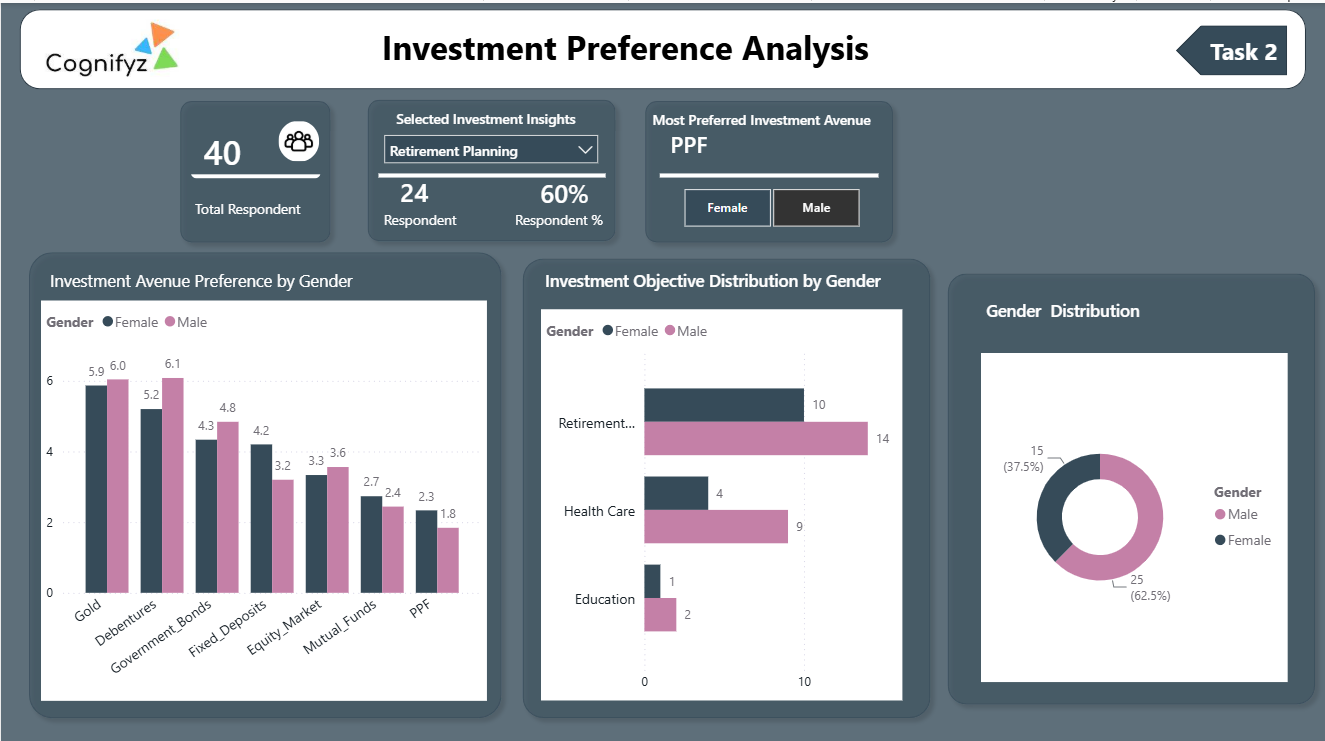

This screenshot's page, from the dashboard's own definition file:
{"tool":"powerbi","page":{"name":" Task 2","canvas":[1280,720],"ordinal":1},"visuals":[{"type":"shape","box":[905.3,252,372.4,433.9],"z":0},{"type":"shape","box":[494,238.2,411.3,461.4],"z":1000},{"type":"shape","box":[17.6,232,474,467.7],"z":2000},{"type":"shape","box":[345,84.5,257,154.4],"z":3000},{"type":"shape","box":[164.1,85.7,162.9,154.4],"z":4000},{"type":"shape","box":[18.1,6,1241.4,77.2],"z":5000},{"type":"textbox","box":[307.6,15.7,589.9,59.1],"z":6000},{"type":"image","box":[42.2,9.7,130.3,70],"z":7000},{"type":"shape","box":[1134.1,21.7,107.4,48.3],"z":8000},{"type":"cardVisual","fields":{"Data":["Measure.Total Respondents"]},"box":[178.6,102.5,135.1,72.4],"z":9000},{"type":"textbox","box":[182.2,184.6,125.5,27.7],"z":10000},{"type":"cardVisual","title":"Selected Investment Insight","fields":{"Data":["Measure.Dynamic KPI"]},"box":[376.2,163,60.2,36.4],"z":11000},{"type":"slicer","fields":{"Values":["KPI Selector.KPI Name"]},"box":[359.9,116.6,227,50.2],"z":12000},{"type":"cardVisual","fields":{"Data":["Measure.Dynamic KPI %"]},"box":[511.6,166.8,72.7,32.6],"z":13000},{"type":"textbox","box":[376.4,97.7,194.2,27.7],"z":14000},{"type":"textbox","box":[364.9,195.6,85.3,27.6],"z":15000},{"type":"textbox","box":[491.5,195.6,95.3,27.6],"z":16000},{"type":"shape","box":[612.9,85.7,257,154.4],"z":17000},{"type":"cardVisual","fields":{"Data":["Measure.Most Preferred Avenue by Gender"]},"box":[637,119.4,209.9,31.4],"z":18000},{"type":"textbox","box":[623.2,99.1,234.5,27.6],"z":19000},{"type":"shape","box":[635.8,158,211.1,16.9],"z":20000},{"type":"shape","box":[364.3,158,219.6,16.9],"z":21000},{"type":"image","box":[268.3,112.9,38.9,40.1],"z":22000},{"type":"textbox","box":[42.2,252.1,317.3,35],"z":23000},{"type":"textbox","box":[520.4,252,357.4,35.1],"z":24000},{"type":"clusteredBarChart","fields":{"Category":["Data_set 2.Savings_objectives"],"Y":["Measure.Total Respondents"],"Series":["Data_set 2.Gender"]},"box":[521.6,295.9,348.6,377.4],"z":25000},{"type":"slicer","fields":{"Values":["Reference.Gender"]},"box":[633.2,173,219.4,50.2],"z":27000},{"type":"donutChart","fields":{"Category":["Data_set 2.Gender"],"Y":["Measure.Total Respondents"]},"box":[945.5,337.3,295.9,317.2],"z":28000},{"type":"textbox","box":[945.5,280.9,163,35.1],"z":29000},{"type":"clusteredColumnChart","fields":{"Category":["Reference.Investment_type"],"Y":["Measure.Average Preference Rank"],"Series":["Reference.Gender"]},"box":[38.6,287.1,430.7,386.1],"z":29001}]}

Visuals, with their boxes in screenshot pixels (x1, y1, x2, y2), scaled from the page's 1280x720 canvas onto the 1325x741 screenshot:
shape: [x1=937, y1=259, x2=1323, y2=706]
shape: [x1=511, y1=245, x2=937, y2=720]
shape: [x1=18, y1=239, x2=509, y2=720]
shape: [x1=357, y1=87, x2=623, y2=246]
shape: [x1=170, y1=88, x2=338, y2=247]
shape: [x1=19, y1=6, x2=1304, y2=86]
textbox: [x1=318, y1=16, x2=929, y2=77]
image: [x1=44, y1=10, x2=179, y2=82]
shape: [x1=1174, y1=22, x2=1285, y2=72]
cardVisual - Measure.Total Respondents: [x1=185, y1=105, x2=325, y2=180]
textbox: [x1=189, y1=190, x2=319, y2=218]
"Selected Investment Insight" cardVisual: [x1=389, y1=168, x2=452, y2=205]
slicer - KPI Selector.KPI Name: [x1=373, y1=120, x2=608, y2=172]
cardVisual - Measure.Dynamic KPI %: [x1=530, y1=172, x2=605, y2=205]
textbox: [x1=390, y1=101, x2=591, y2=129]
textbox: [x1=378, y1=201, x2=466, y2=230]
textbox: [x1=509, y1=201, x2=607, y2=230]
shape: [x1=634, y1=88, x2=900, y2=247]
cardVisual - Measure.Most Preferred Avenue by Gender: [x1=659, y1=123, x2=877, y2=155]
textbox: [x1=645, y1=102, x2=888, y2=130]
shape: [x1=658, y1=163, x2=877, y2=180]
shape: [x1=377, y1=163, x2=604, y2=180]
image: [x1=278, y1=116, x2=318, y2=157]
textbox: [x1=44, y1=259, x2=372, y2=295]
textbox: [x1=539, y1=259, x2=909, y2=295]
clusteredBarChart - Data_set 2.Savings_objectives x Measure.Total Respondents: [x1=540, y1=305, x2=901, y2=693]
slicer - Reference.Gender: [x1=655, y1=178, x2=883, y2=230]
donutChart - Data_set 2.Gender x Measure.Total Respondents: [x1=979, y1=347, x2=1285, y2=674]
textbox: [x1=979, y1=289, x2=1147, y2=325]
clusteredColumnChart - Reference.Investment_type x Measure.Average Preference Rank: [x1=40, y1=295, x2=486, y2=693]
